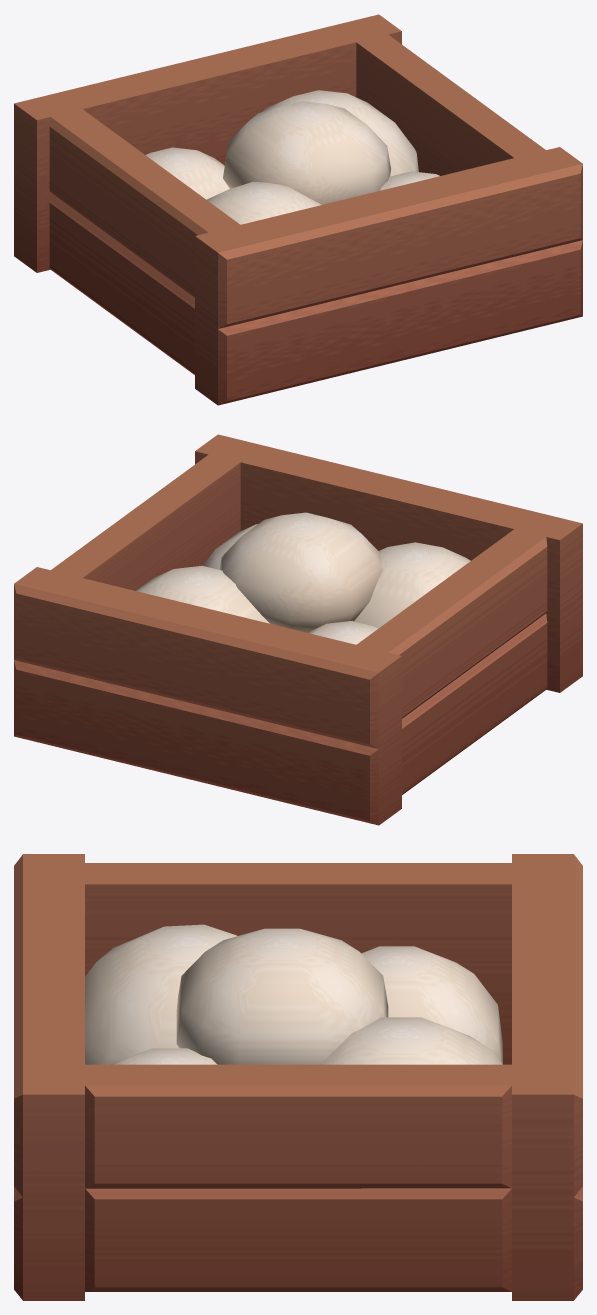
Rendered from crate_dough.gltf.
The picture shows the model from 3 angles, top to bottom: view 1: azimuth 30°, elevation 25°; view 2: azimuth 150°, elevation 25°; view 3: azimuth 270°, elevation 25°; orthographic projection. The views are drawn at different scales.
Visible parts, largest first — view 1: crate_dough; view 2: crate_dough; view 3: crate_dough.
Boxes of the visible parts, box(x1,y1,x2,y2) form: crate_dough: box(14, 14, 582, 405); crate_dough: box(14, 434, 582, 825); crate_dough: box(14, 854, 582, 1300).
Bounding box in the file's own units: 2 × 0.9323 × 2.
1 material, 1 textured.
